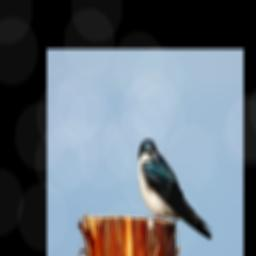Swallow: (137, 137, 213, 241)
